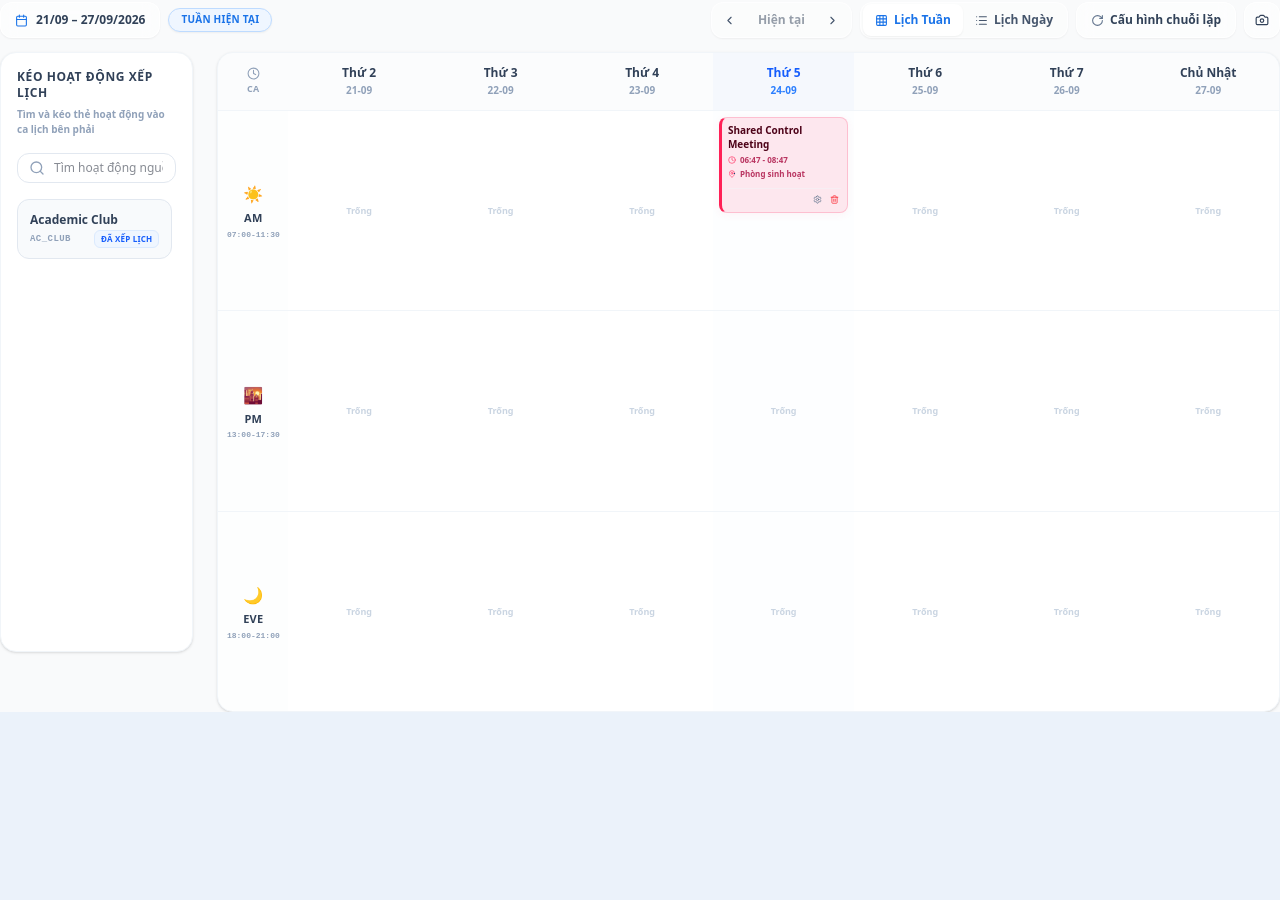
Test: ActivityScheduleWorkspace › uses one range calendar and removes obsolete recurrence controls
Check: the text "Shared Control Meeting" is shown, box [728,123,802,151]
Click the button "Cấu hình chuỗi lặp": [1156, 20] box [1076,2,1236,38]
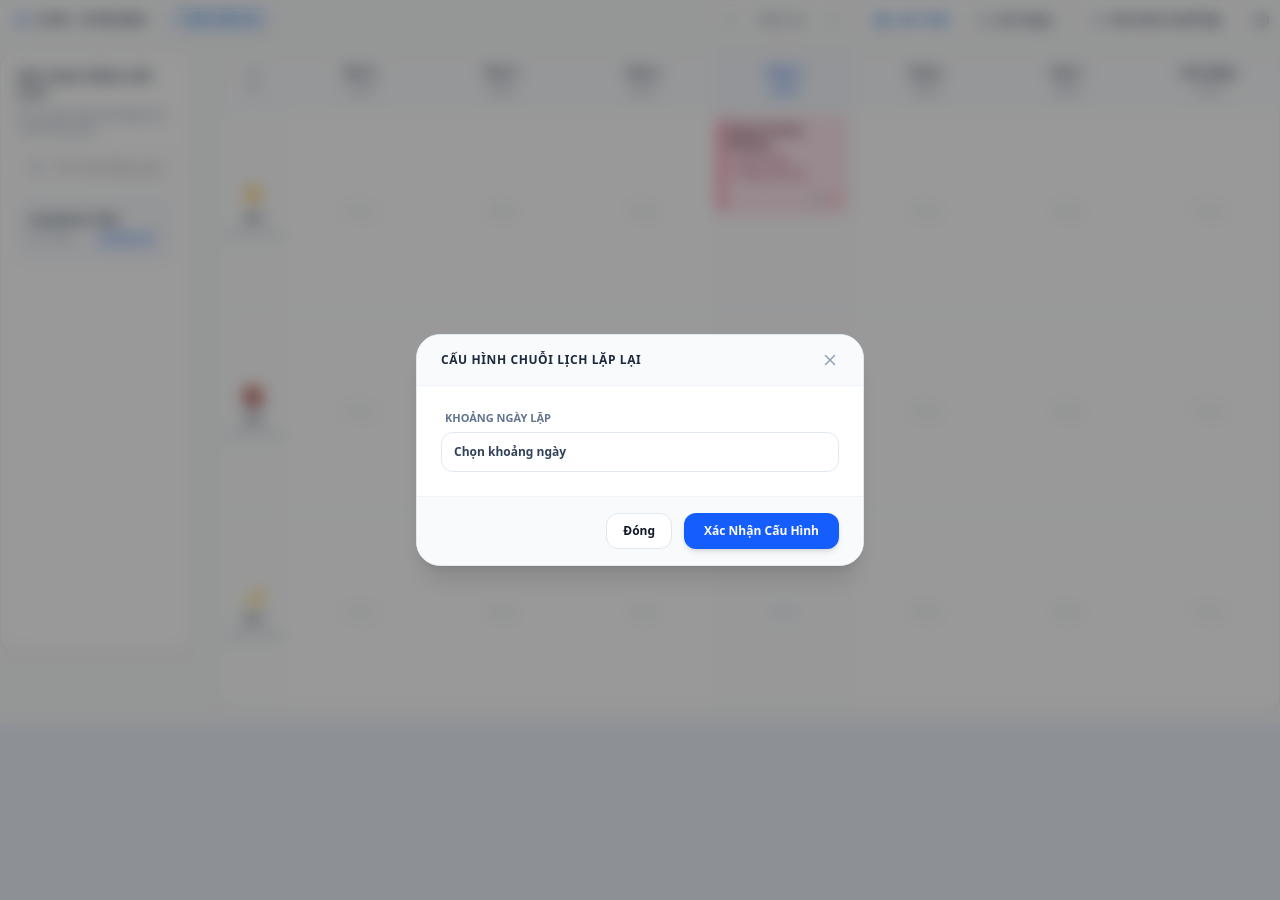
Check: the heading "Cấu hình chuỗi lịch lặp lại" is shown, box [441,352,641,368]
Check: the text "Khoảng ngày lặp" is shown, box [445,410,551,425]
Click the button "Chọn khoảng ngày": [510, 452] box [441,432,839,472]
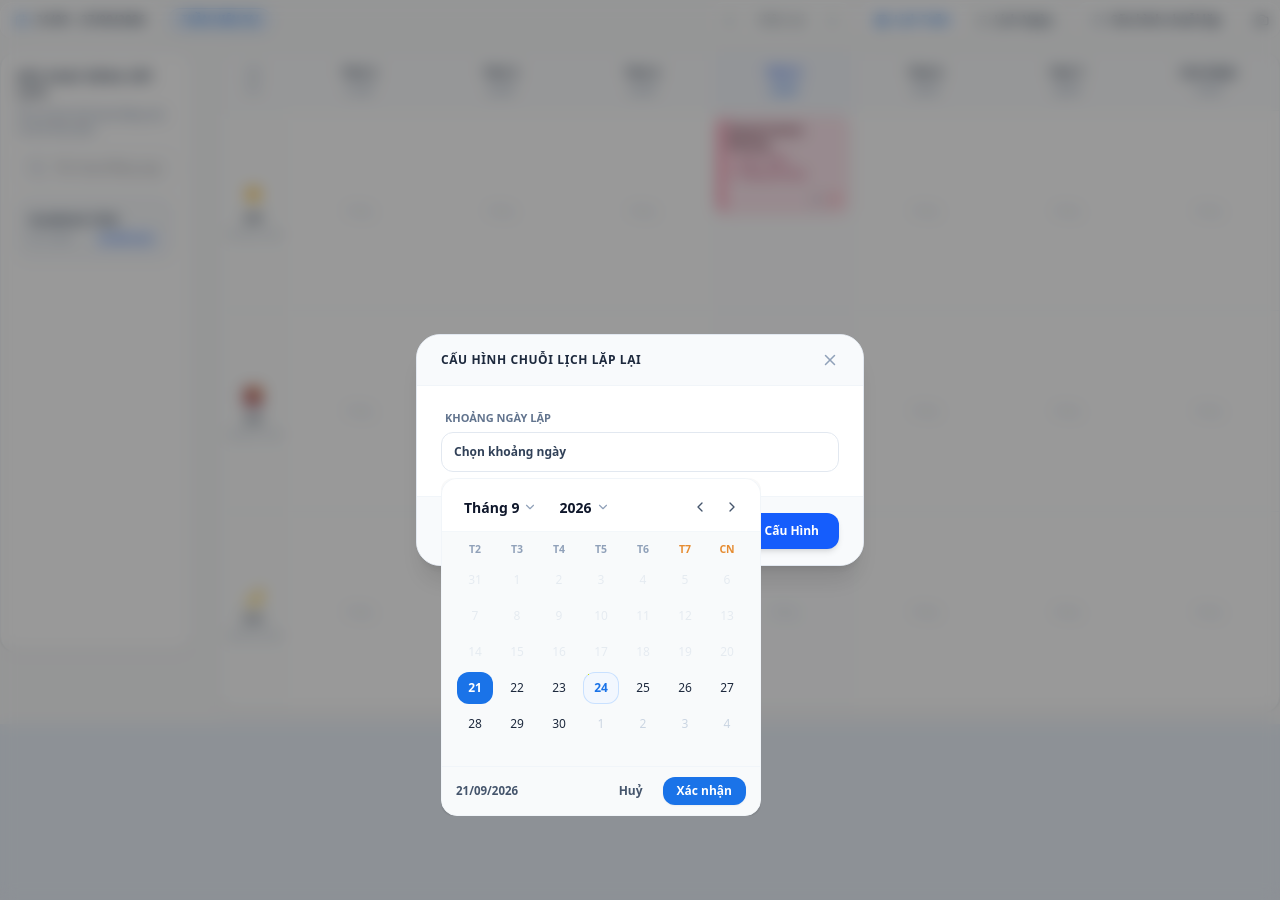
Check: the text "T2" is shown, box [469,542,481,556]
Check: the button "Xác nhận" is shown, box [662,777,746,805]
